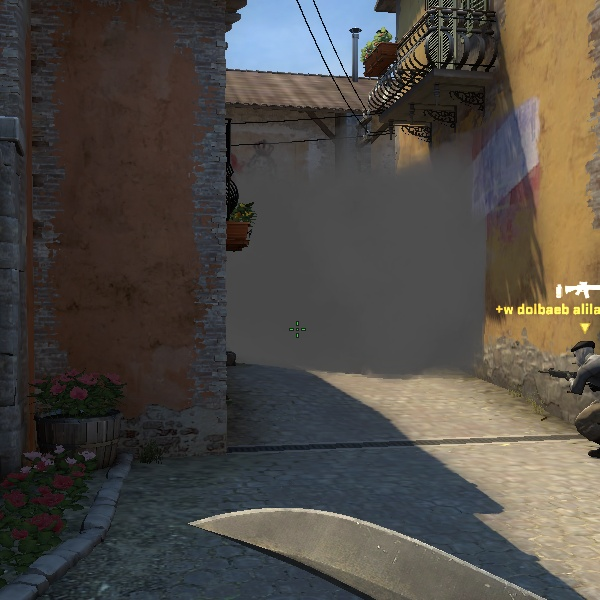t_body: (556, 335, 598, 459)
t_head: (570, 334, 596, 365)
